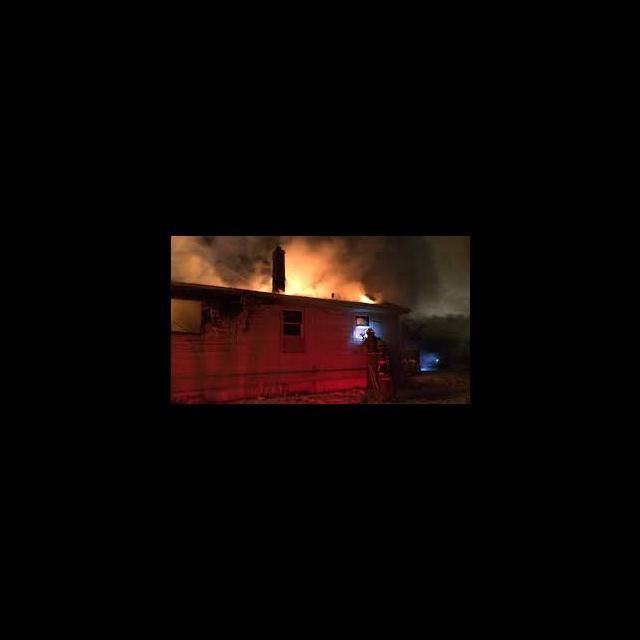Fire: (261, 268, 320, 297), (351, 286, 378, 306)
Smoke: (324, 238, 454, 282), (171, 240, 252, 282), (255, 238, 322, 266)
